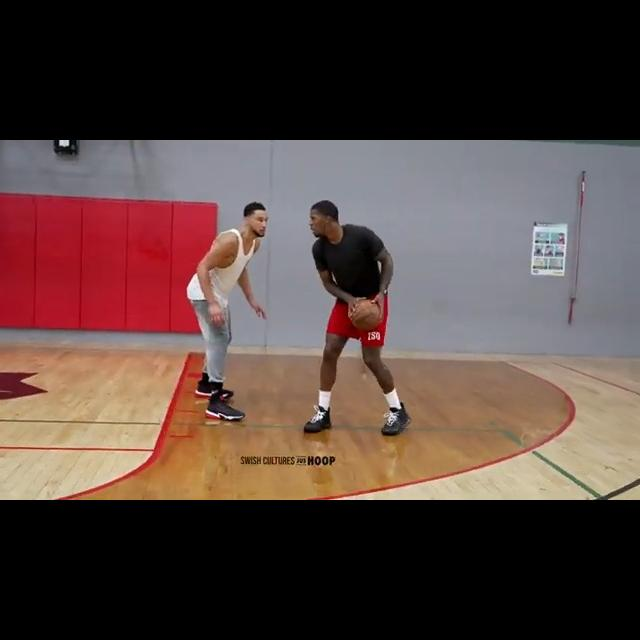basketball: (351, 298, 383, 331)
person: (302, 199, 416, 438), (184, 197, 281, 424)
